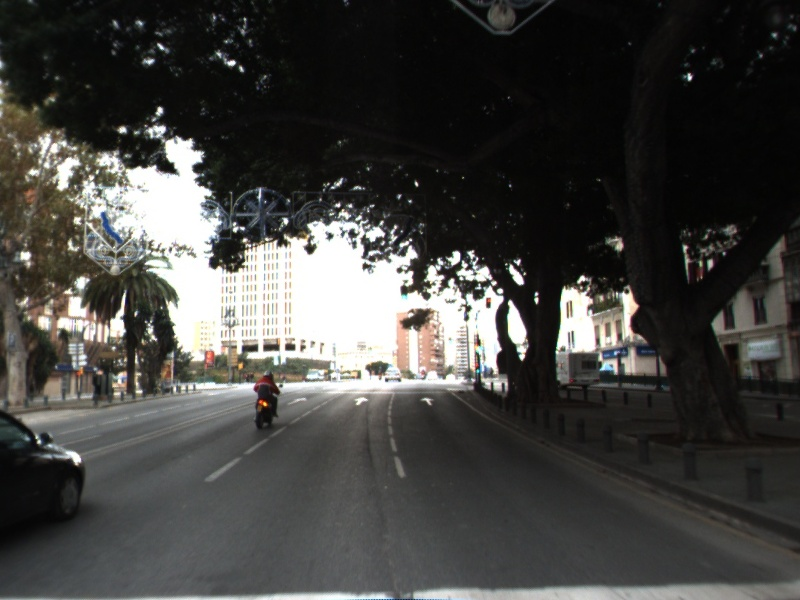STRAIGHT: (285, 395, 310, 407), (351, 394, 371, 407), (417, 395, 437, 407)
